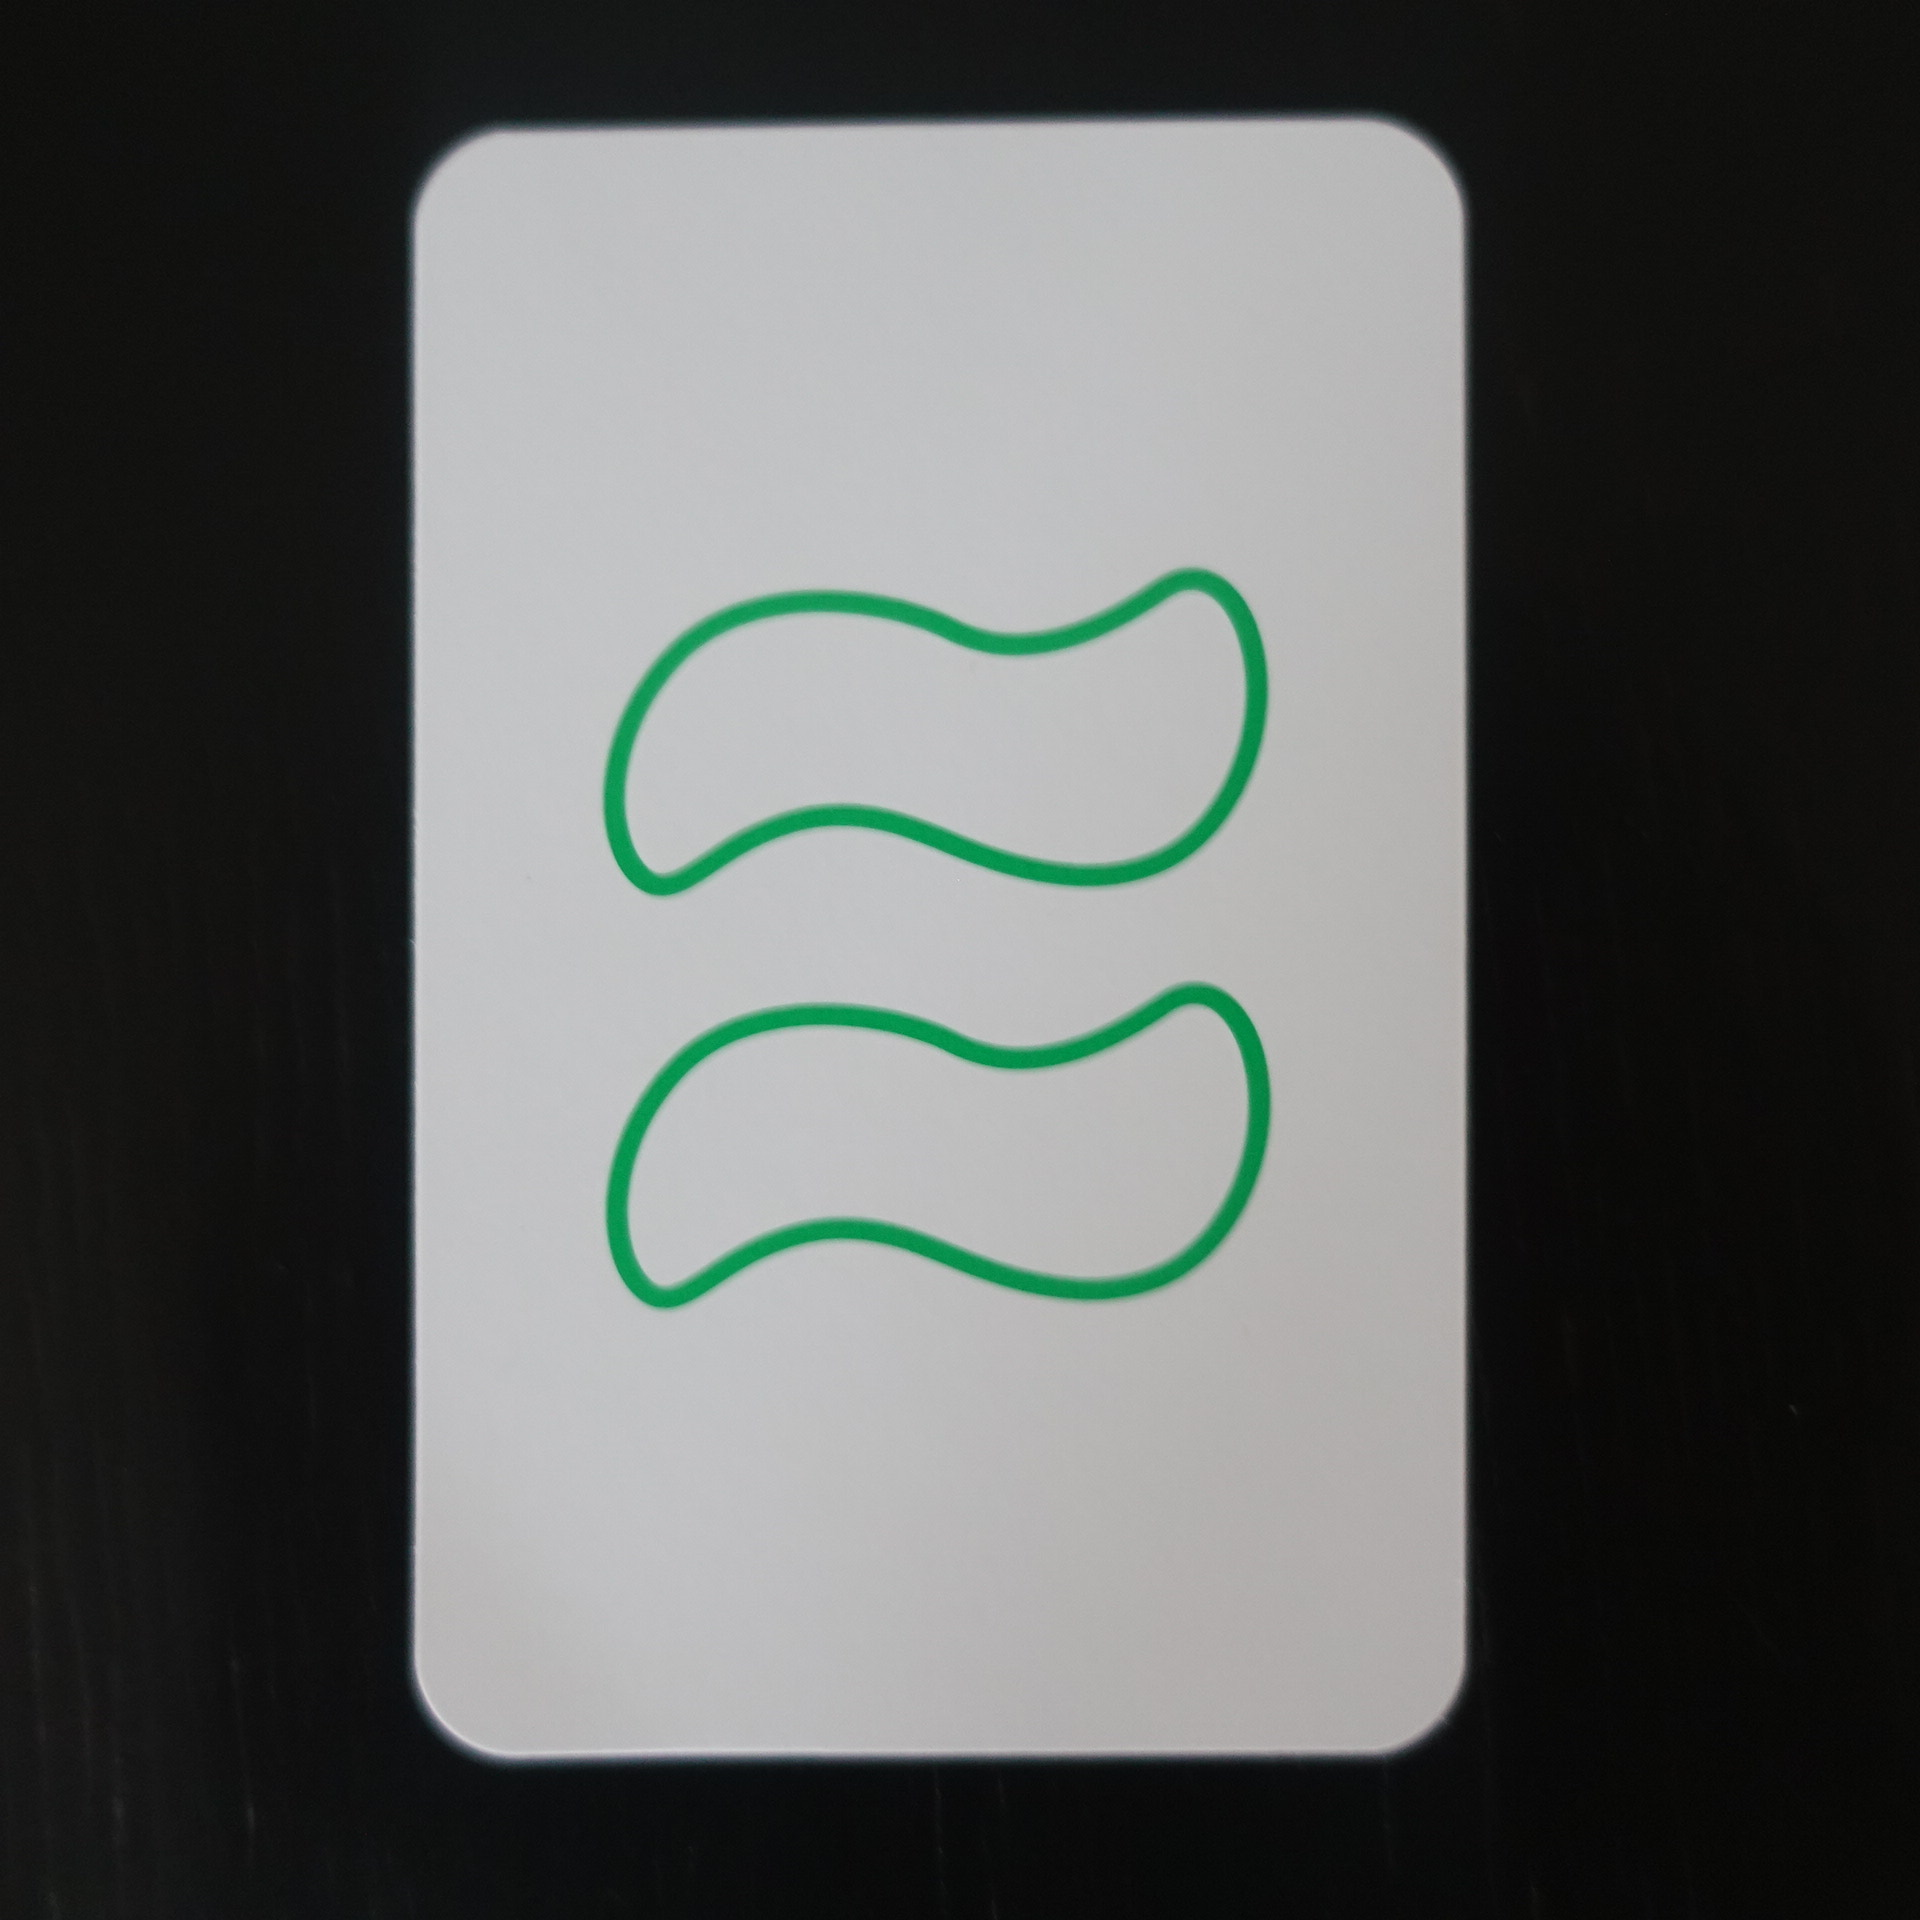c-2-f-d-r: (362, 86, 1510, 1785)
